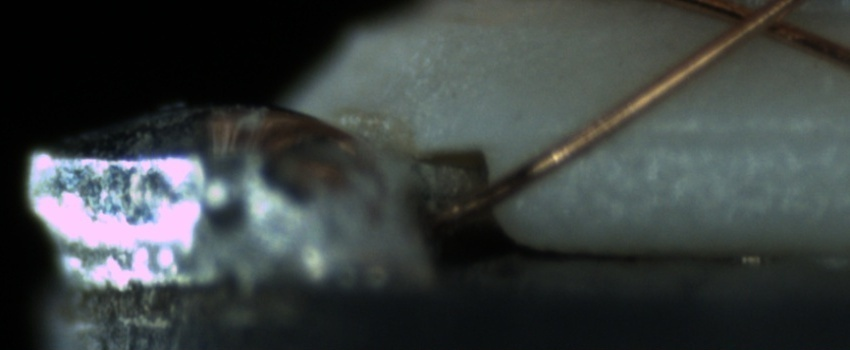CL: (707, 2, 815, 47)
DL: (607, 97, 841, 167)
